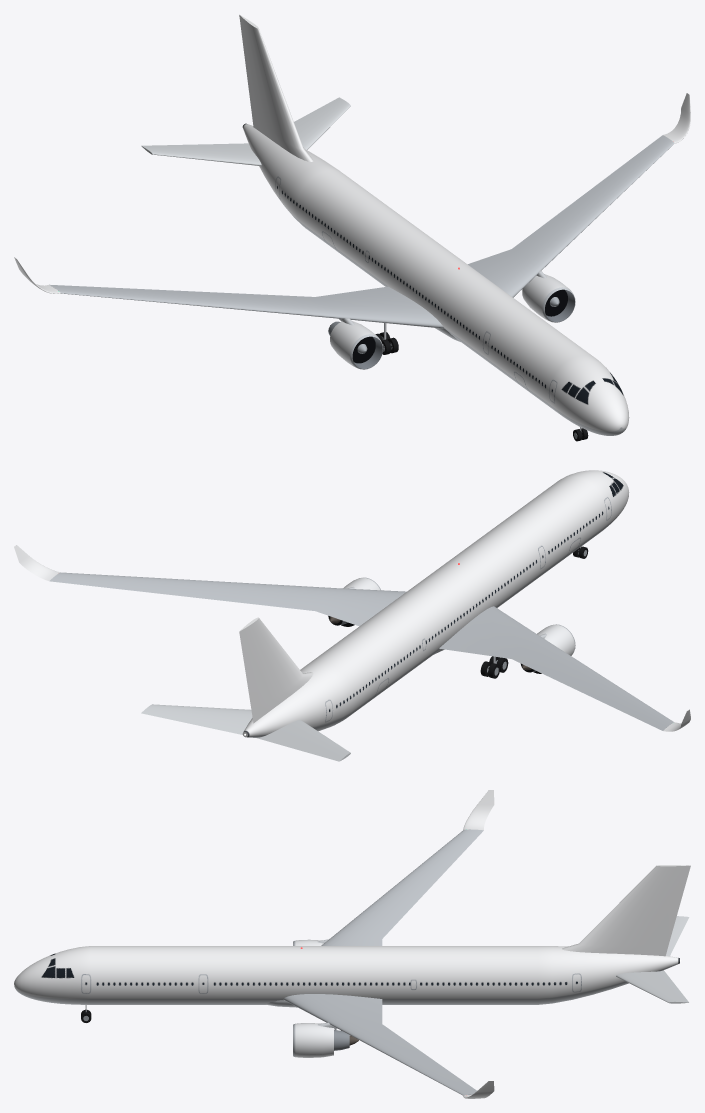
The picture shows the model from 3 angles, top to bottom: view 1: azimuth 30°, elevation 25°; view 2: azimuth 150°, elevation 25°; view 3: azimuth 270°, elevation 25°; orthographic projection. The views are drawn at different scales.
Parts seen in each view (by area): view 1: body; view 2: body, gear; view 3: body.
Boxes of the visible parts, bbox=[...] form: body: bbox=[14, 15, 690, 435]; body: bbox=[14, 470, 690, 761]; gear: bbox=[480, 546, 588, 678]; body: bbox=[14, 790, 690, 1098].
Bounding box in the file's own units: 65.82 × 16.4 × 64.7.
19 materials, 1 textured.
